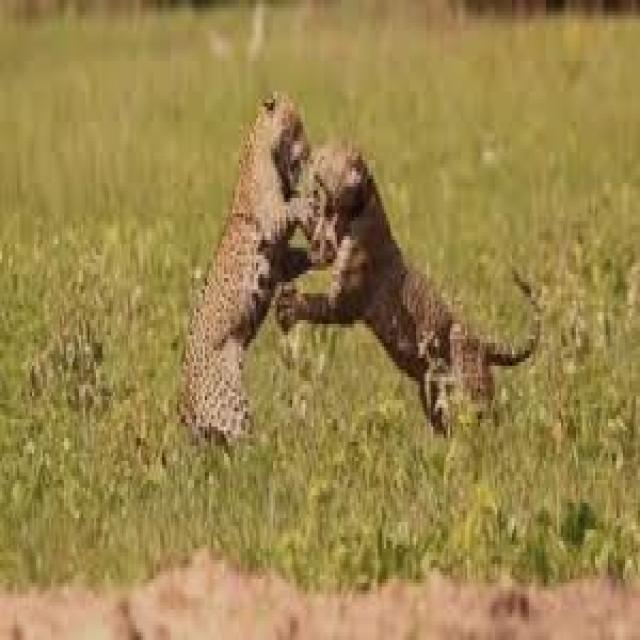Jaguar: (309, 118, 532, 438), (172, 54, 298, 472)
